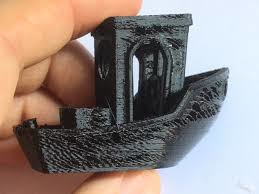Spaghetti: (11, 0, 249, 193)
